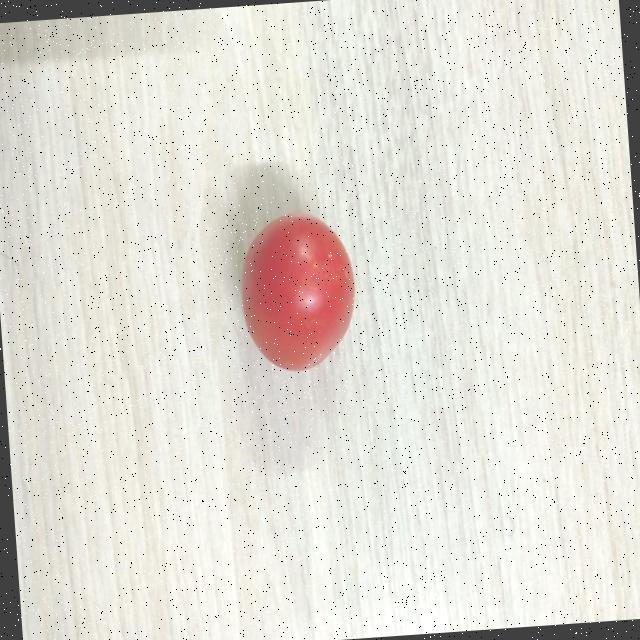Tomato: (234, 208, 364, 373)
